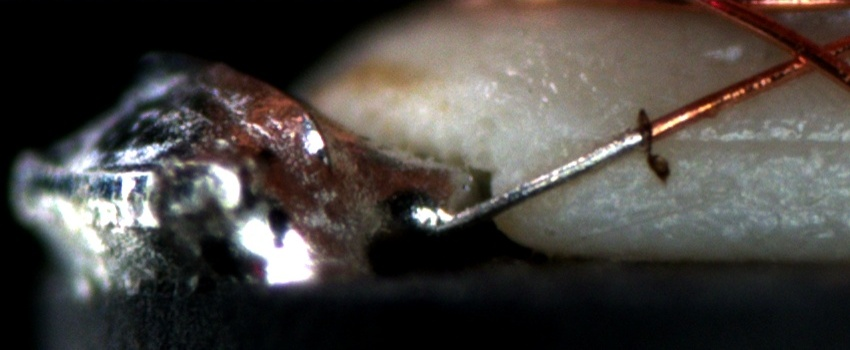CL: (768, 29, 842, 81)
DL: (664, 111, 850, 176)
TS: (432, 126, 643, 239)
